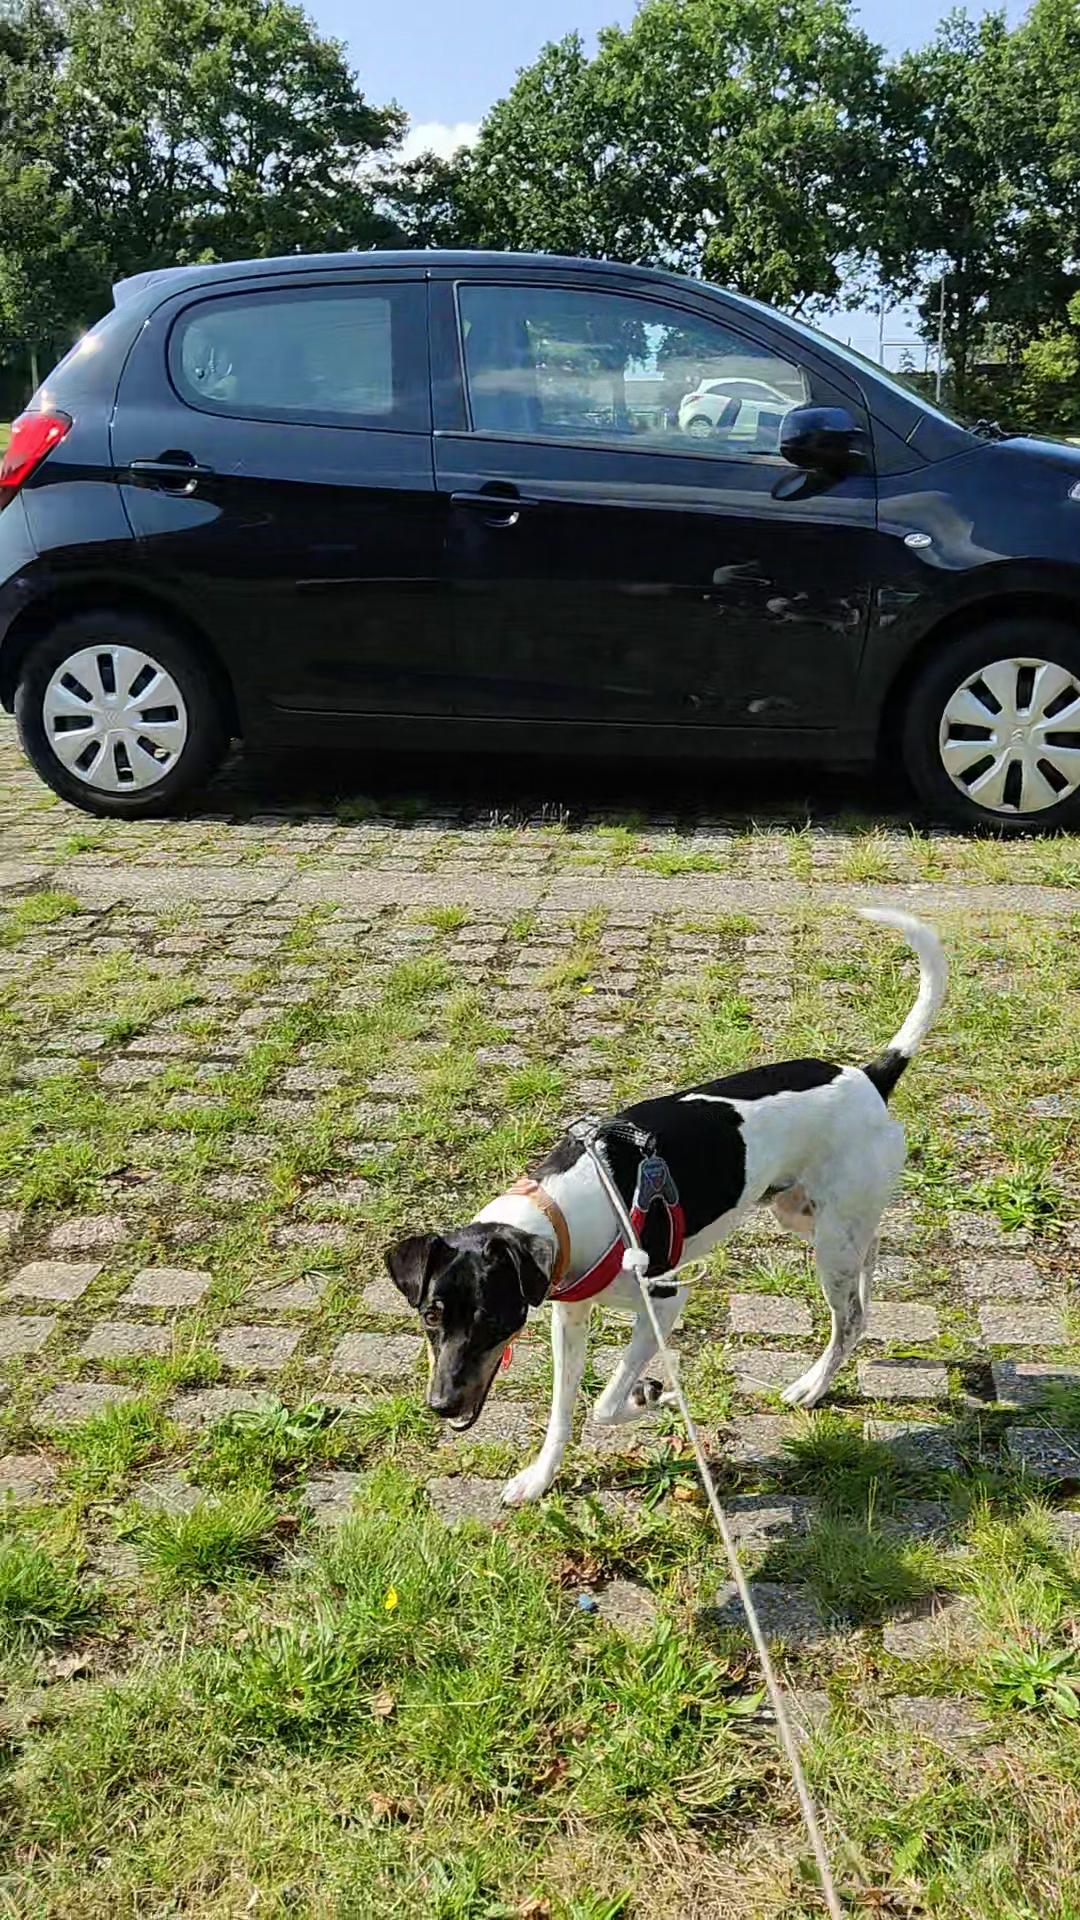Dog: (357, 878, 978, 1516)
